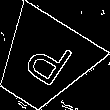P_SW: (13, 31, 73, 93)
